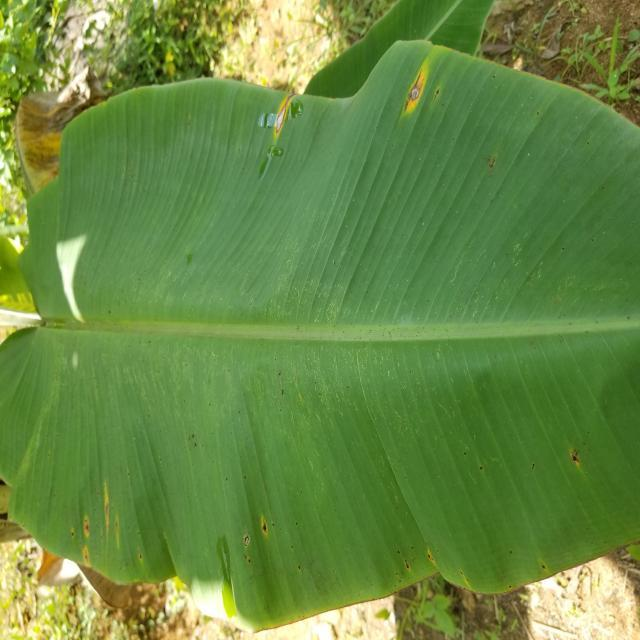Early_rust: (20, 468, 292, 625), (200, 51, 458, 165), (380, 534, 463, 606), (510, 430, 597, 492), (521, 539, 566, 596)
